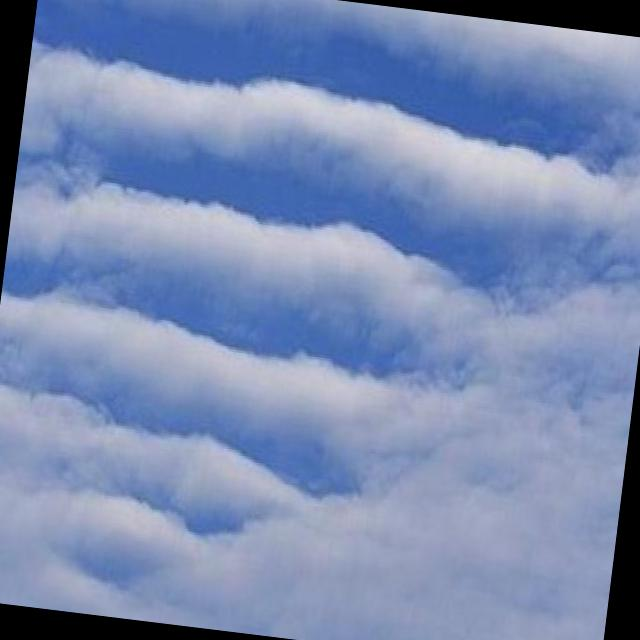altocumulus: (9, 10, 599, 640)
